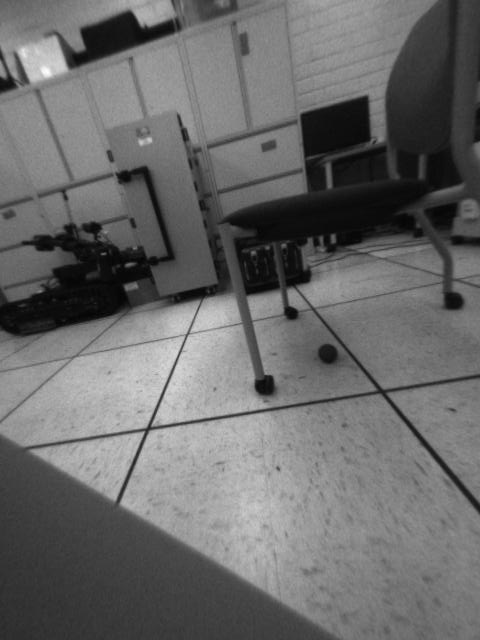dogtoy: (313, 333, 348, 369)
